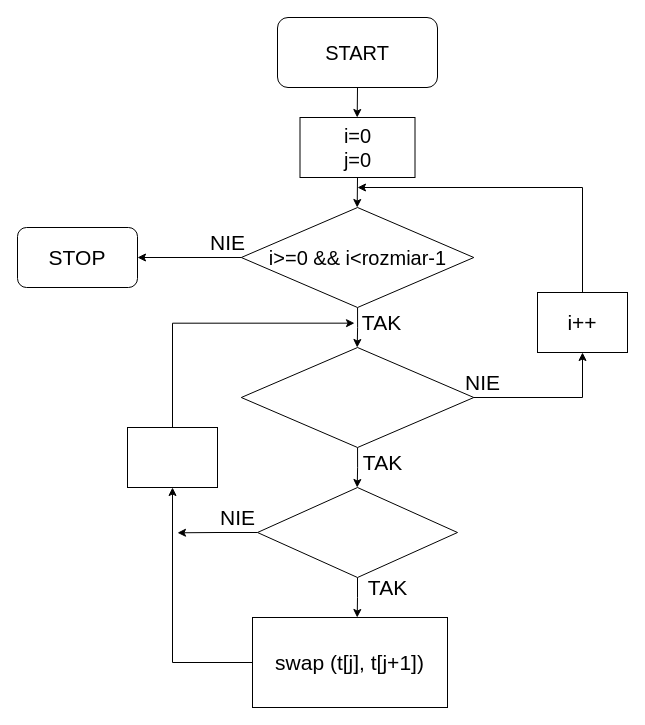
Image size: 645x725. Some labels were removed from this diagram. Here are the shapes that lost their labels. From the top down, the box of each, then its label:
(240, 346, 474, 448): j>=0 && j<rozmiar-1
(126, 426, 218, 488): j++
(256, 486, 458, 578): t[j] > t[j+1]
